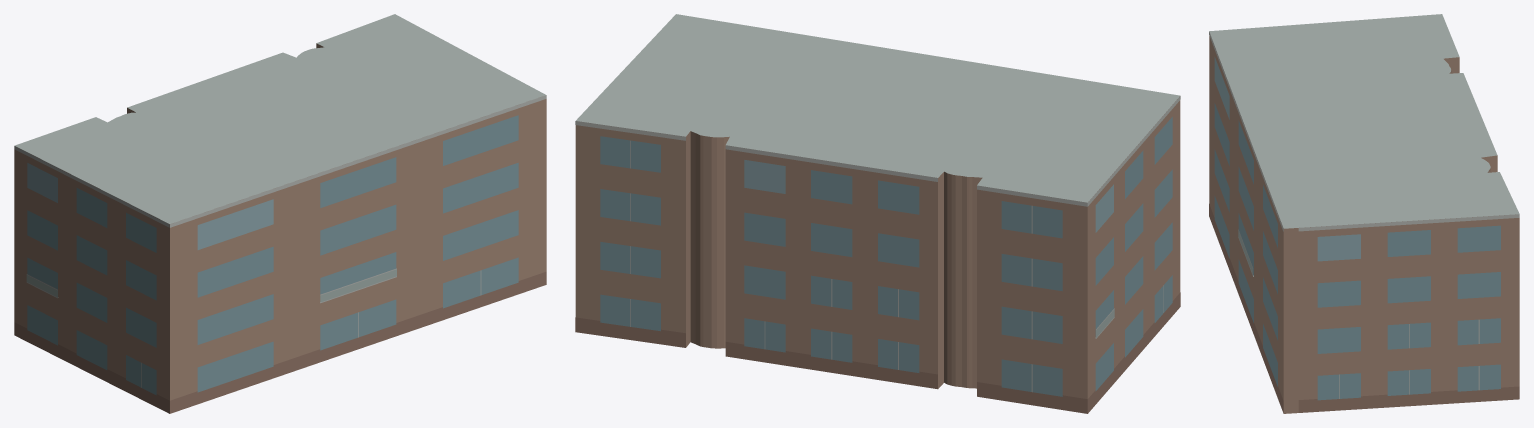
File: survey-upis-32930247.glb
3 views of the same model, side by side, from view 1: azimuth 30°, elevation 25°; view 2: azimuth 150°, elevation 25°; view 3: azimuth 270°, elevation 25° (orthographic). The views are drawn at different scales.
Visible parts, largest first — view 1: survey-upis-32930247.tmp; view 2: survey-upis-32930247.tmp; view 3: survey-upis-32930247.tmp.
Boxes of the visible parts, <box> form: survey-upis-32930247.tmp: <box>14,14,546,413</box>; survey-upis-32930247.tmp: <box>575,14,1180,413</box>; survey-upis-32930247.tmp: <box>1209,14,1519,413</box>.
Bounding box in the file's own units: 31.1 × 12.5 × 19.01.
